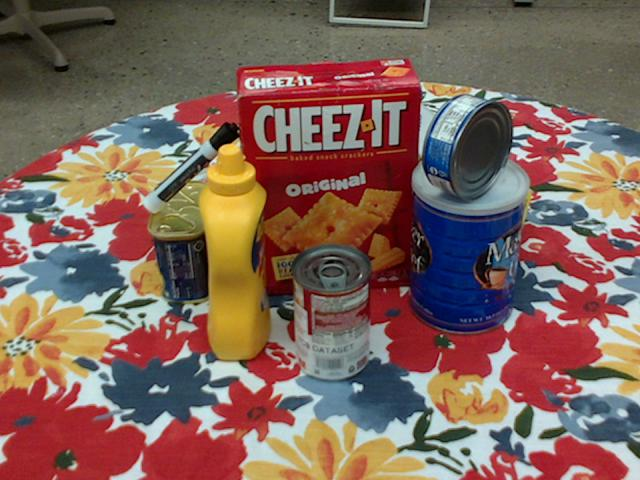cracker_box: (237, 59, 423, 295)
gelatin_box: (171, 158, 257, 245)
large_marker: (143, 121, 240, 212)
master_chef_can: (411, 152, 528, 337)
mug: (323, 122, 407, 221)
mustard_bottle: (198, 144, 269, 361)
potted_meat_can: (147, 180, 216, 304)
sugar_box: (368, 95, 534, 256)
tomato_soup_can: (290, 244, 371, 382)
tuna_fish_can: (425, 94, 514, 199)
